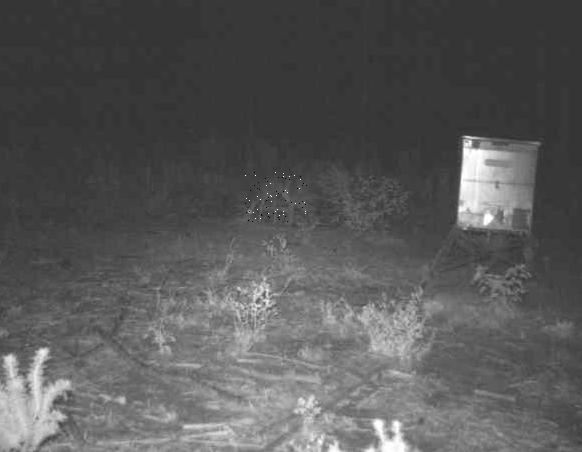Deer: (244, 171, 306, 222)
